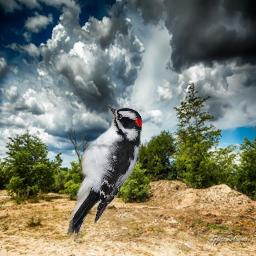Woodpecker: (65, 104, 142, 239)
